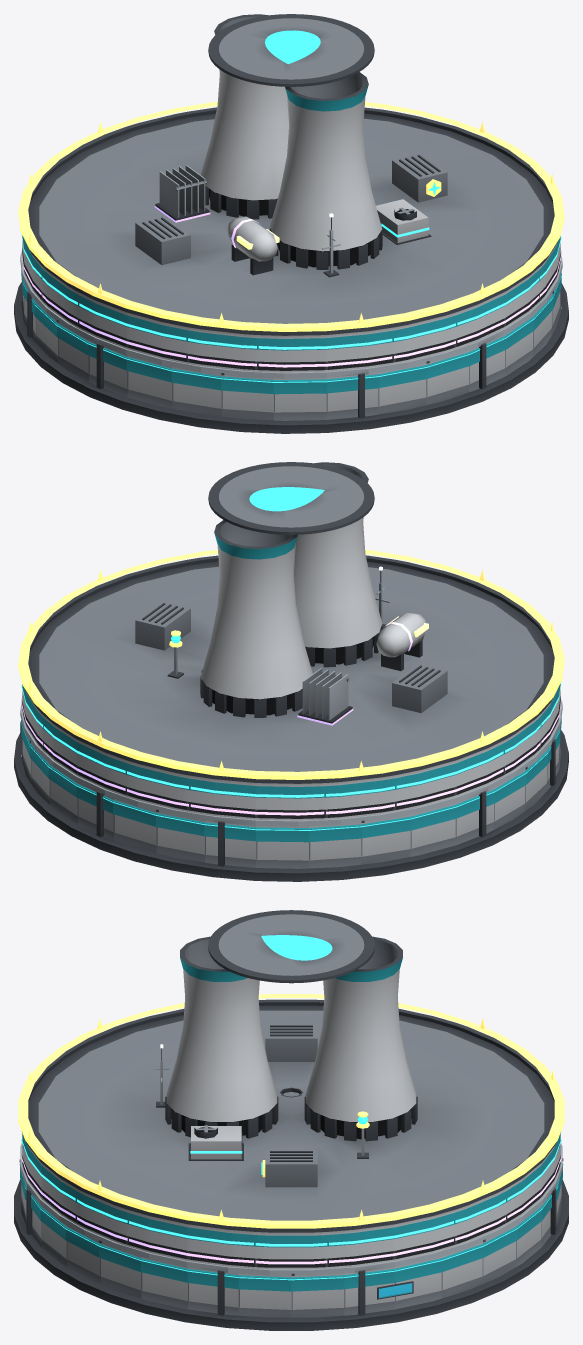
File: atmo_processor_m.glb
3 views of the same model, one above another, from view 1: azimuth 30°, elevation 25°; view 2: azimuth 150°, elevation 25°; view 3: azimuth 270°, elevation 25° (orthographic).
Parts seen in each view (by area): view 1: Roof, Base, L4, Wall_21, Wall_20, Wall_22, Wall_19, Wall_23, Wall_18, Wall_24, L3, Upper_21 (+23 smaller); view 2: Roof, Base, L4, Wall_10, Wall_11, Wall_09, Wall_12, Wall_08, Wall_13, Wall_07, Upper_10, Upper_11 (+23 smaller); view 3: Roof, Base, Wall_00, Wall_31, Wall_30, L3, Wall_29, Wall_01, Wall_02, Wall_28, Wall_03, Upper_00 (+21 smaller).
Part boxes in pixels (x1=…): Roof: x1=28, y1=14, x2=558, y2=335; Base: x1=14, y1=282, x2=568, y2=433; L4: x1=154, y1=165, x2=279, y2=275; Wall_21: x1=273, y1=378, x2=326, y2=420; Wall_20: x1=221, y1=373, x2=273, y2=420; Wall_22: x1=326, y1=372, x2=378, y2=419; Wall_19: x1=171, y1=367, x2=221, y2=416; Wall_23: x1=378, y1=363, x2=426, y2=414; Wall_18: x1=126, y1=356, x2=172, y2=408; Wall_24: x1=426, y1=350, x2=469, y2=405; L3: x1=376, y1=199, x2=431, y2=244; Upper_21: x1=274, y1=335, x2=326, y2=372; Roof: x1=24, y1=462, x2=554, y2=783; Base: x1=14, y1=730, x2=568, y2=881; L4: x1=297, y1=613, x2=428, y2=725; Wall_10: x1=256, y1=826, x2=309, y2=868; Wall_11: x1=309, y1=822, x2=361, y2=868; Wall_09: x1=204, y1=820, x2=256, y2=867; Wall_12: x1=361, y1=815, x2=411, y2=864; Wall_08: x1=156, y1=809, x2=204, y2=862; Wall_13: x1=410, y1=804, x2=456, y2=856; Wall_07: x1=113, y1=798, x2=156, y2=853; Upper_10: x1=256, y1=783, x2=308, y2=820; Upper_11: x1=309, y1=779, x2=360, y2=820; Roof: x1=22, y1=910, x2=560, y2=1232; Base: x1=14, y1=1179, x2=568, y2=1330; Wall_00: x1=291, y1=1273, x2=344, y2=1317; Wall_31: x1=238, y1=1273, x2=291, y2=1317; Wall_30: x1=187, y1=1267, x2=238, y2=1315; L3: x1=188, y1=1087, x2=302, y2=1160; Wall_29: x1=140, y1=1256, x2=187, y2=1309; Wall_01: x1=344, y1=1267, x2=395, y2=1315; Wall_02: x1=395, y1=1256, x2=442, y2=1309; Wall_28: x1=99, y1=1240, x2=141, y2=1298; Wall_03: x1=441, y1=1243, x2=483, y2=1298; Upper_00: x1=291, y1=1230, x2=343, y2=1269.
Bounding box in the file's own units: 14.75 × 7.88 × 14.75.
